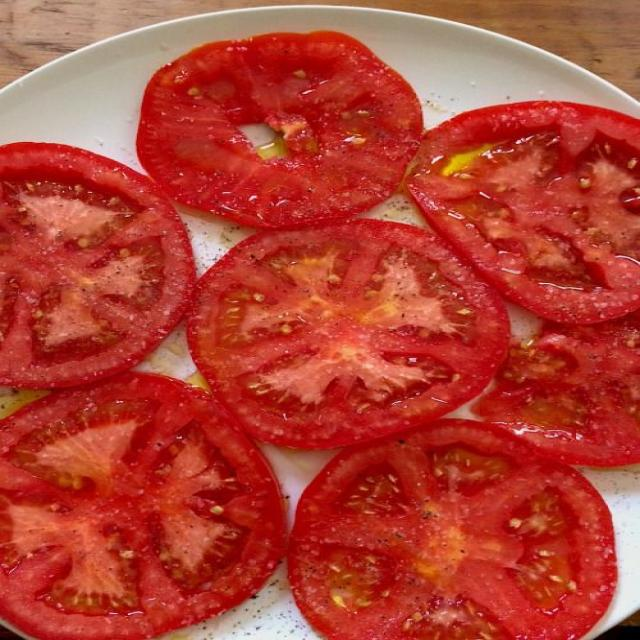sliced tomatoe: (0, 374, 285, 639), (189, 220, 508, 448), (288, 420, 616, 639), (137, 32, 422, 227), (409, 102, 639, 324), (0, 143, 194, 387), (474, 312, 639, 466)
